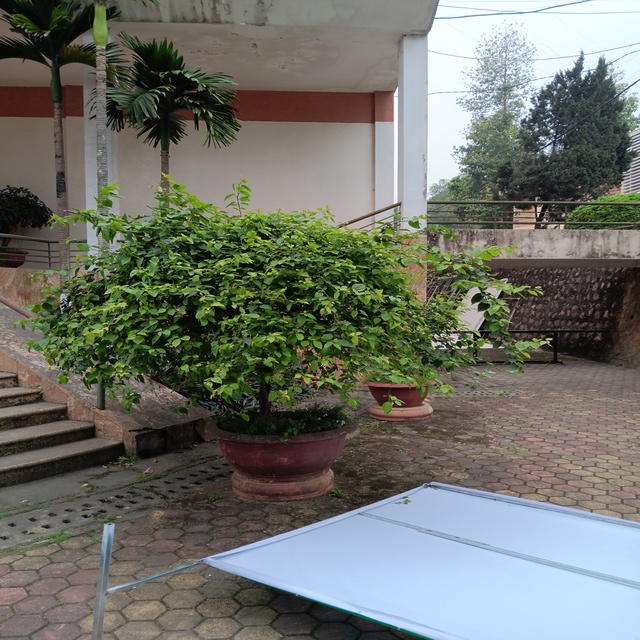caycanh: (74, 200, 437, 503), (341, 248, 502, 439)
